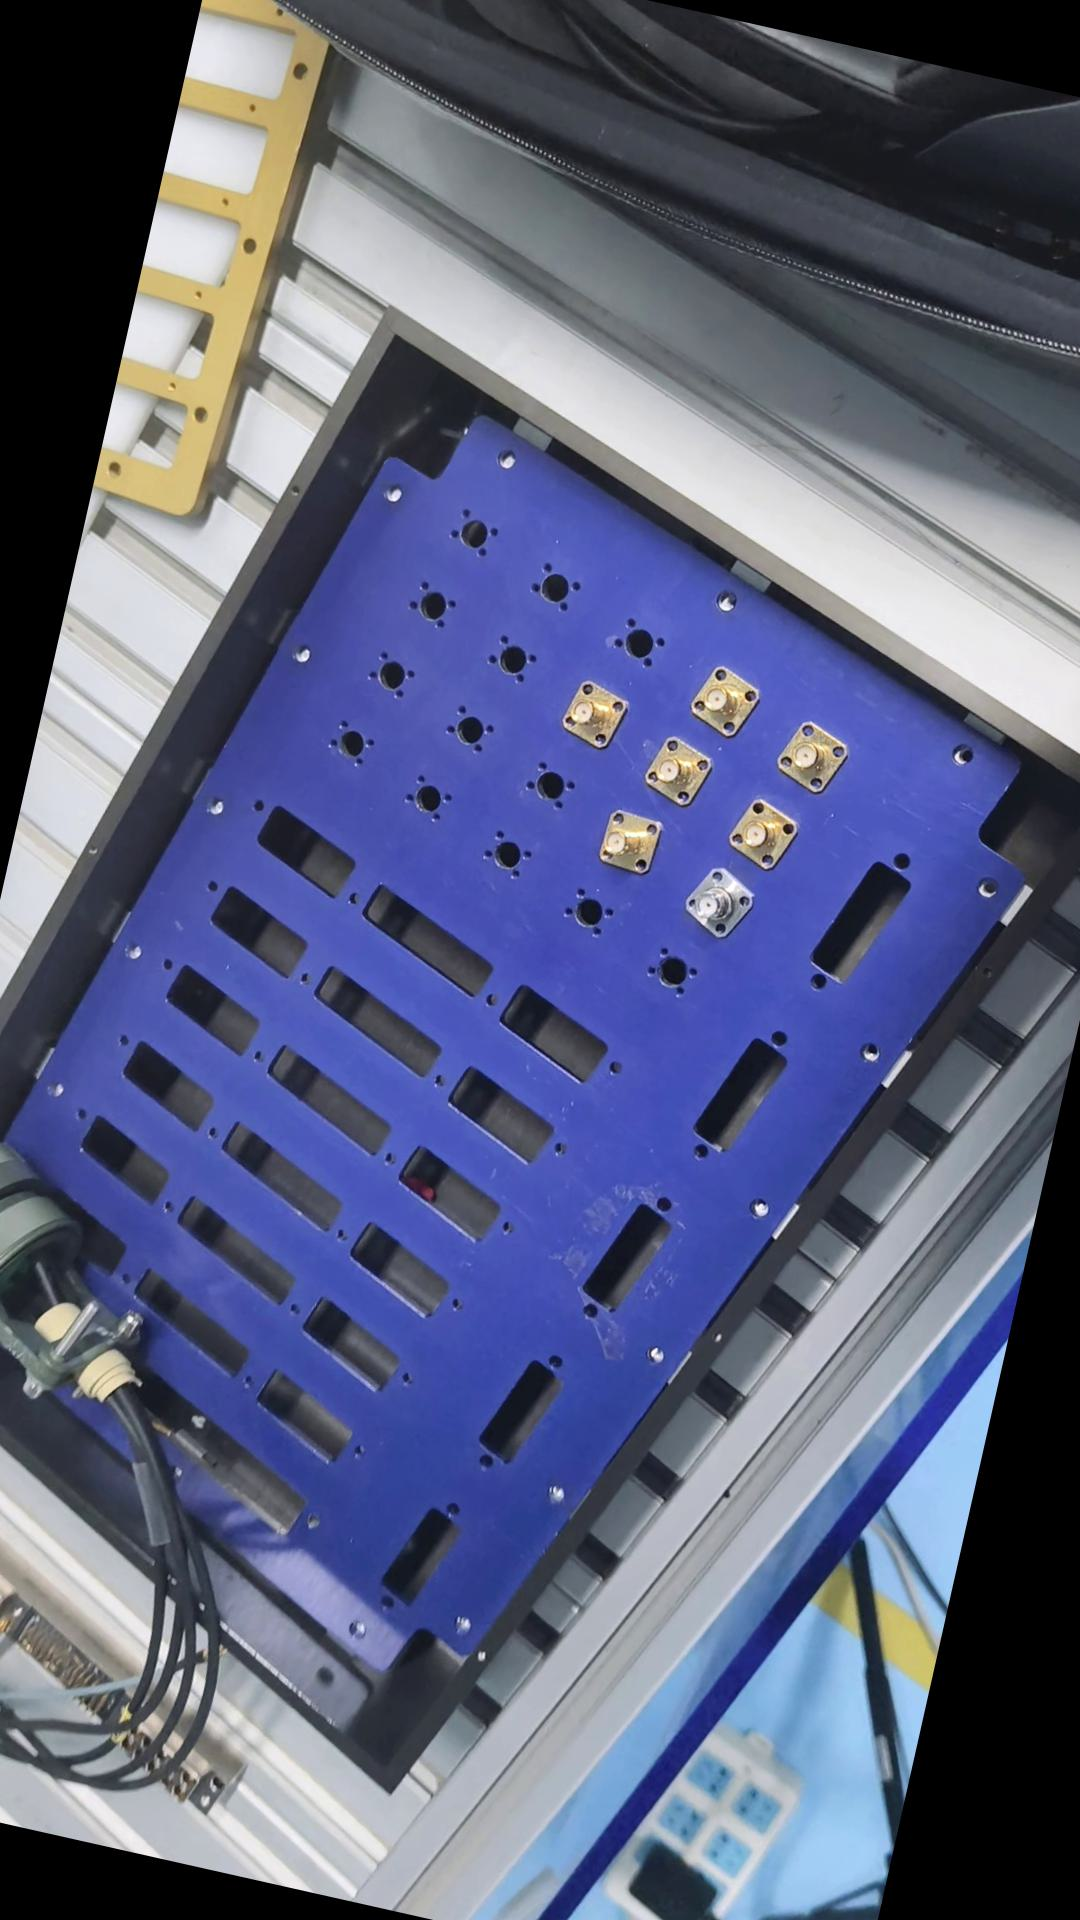SMA: (680, 655, 764, 744), (671, 855, 753, 940), (638, 729, 723, 807), (770, 717, 851, 794), (719, 798, 796, 873), (553, 675, 626, 754), (587, 808, 661, 876)
